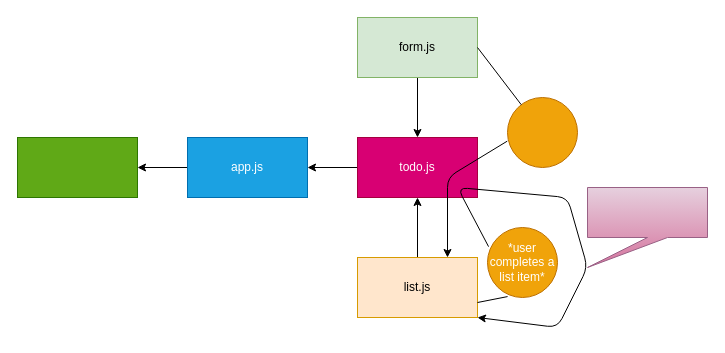
Some shapes in this 725 by 353 pixel diagram are drawn without their labels. The shapes that lost their labels are listed below. From the top down, each one's centre as x and y in pixels, then its label:
(x=542, y=132): *user adds a list item*
(x=77, y=167): index.js
(x=647, y=227): list item updated to complete
